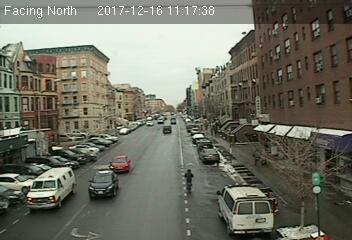bicycle: (182, 168, 194, 195)
car: (89, 170, 117, 197), (109, 155, 131, 172), (197, 149, 220, 163)
police: (215, 182, 273, 236)
truck: (25, 167, 76, 212)
